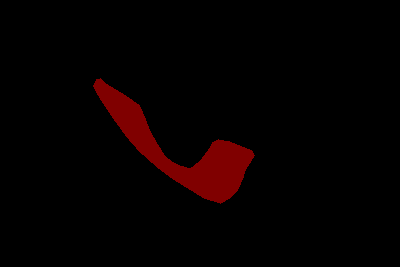fire: (93, 78, 254, 203)
